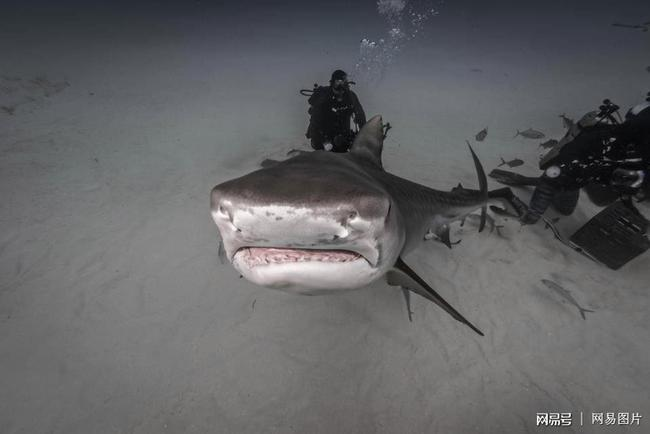shark: (201, 113, 555, 322)
